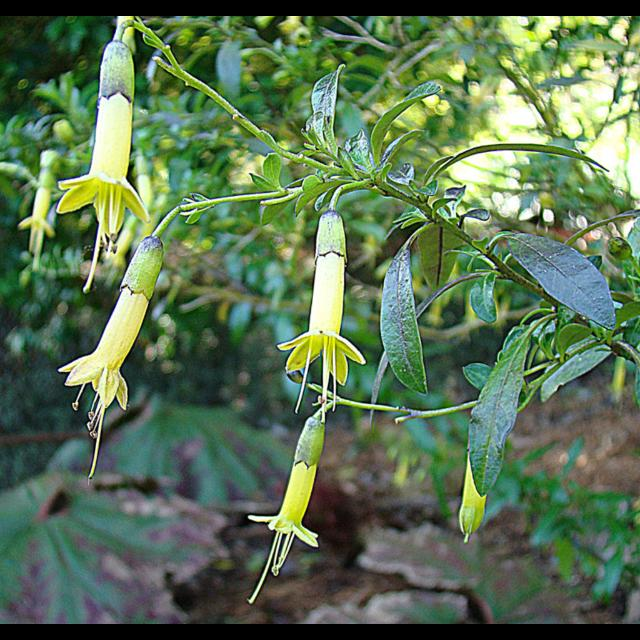Flower: (59, 234, 165, 476), (53, 38, 151, 292), (269, 210, 379, 430), (246, 418, 330, 606), (457, 457, 488, 541)
